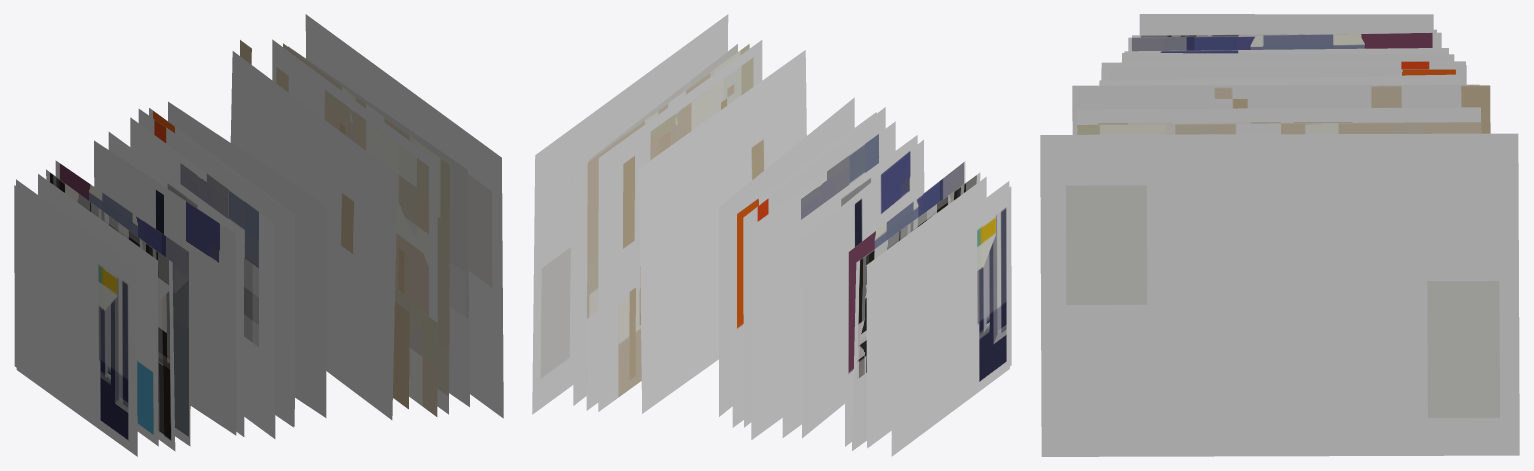
The model's file is jacquier.dae.
3 renders of one model, left to right at view 1: azimuth 30°, elevation 25°; view 2: azimuth 150°, elevation 25°; view 3: azimuth 270°, elevation 25°, orthographic. The views are drawn at different scales.
Parts seen in each view (by area): view 1: Plane_005, Plane_016, Plane_001, Plane_003, Plane_011, Plane_009, Plane_006, Plane_008, Plane_014, Plane_012, Plane, Plane_013 (+5 smaller); view 2: Plane_005, Plane_016, Plane_001, Plane_003, Plane_011, Plane_009, Plane_014, Plane_006, Plane_010, Plane, Plane_008, Plane_012 (+5 smaller); view 3: Plane_001, Plane_005, Plane_003, Plane_012, Plane_002, Plane_015, Plane_008, Plane_006, Plane_010, Plane_007, Plane_004, Plane_014 (+1 smaller).
Boxes of the visible parts, x1,y1,x2,y2 form: Plane_005: (230,51,397,419); Plane_016: (14,185,133,451); Plane_001: (305,14,503,418); Plane_003: (272,39,437,416); Plane_011: (94,140,236,435); Plane_009: (130,117,275,438); Plane_006: (168,101,326,417); Plane_008: (138,109,293,427); Plane_014: (38,174,158,446); Plane_012: (55,160,190,446); Plane: (288,46,469,406); Plane_013: (46,169,175,451); Plane_005: (639,50,806,413); Plane_016: (894,186,1011,451); Plane_001: (532,14,728,414); Plane_003: (598,40,762,411); Plane_011: (801,139,924,438); Plane_009: (751,121,895,439); Plane_014: (866,176,986,448); Plane_006: (719,97,854,416); Plane_010: (782,135,917,437); Plane: (572,44,737,405); Plane_008: (743,107,885,427); Plane_012: (845,161,965,446); Plane_001: (1040,133,1519,456); Plane_005: (1072,84,1479,134); Plane_003: (1076,107,1480,134); Plane_012: (1128,32,1441,51); Plane_002: (1077,122,1481,134); Plane_015: (1139,14,1433,35); Plane_008: (1101,61,1465,80); Plane_006: (1099,74,1460,85); Plane_010: (1121,53,1454,62); Plane_007: (1110,69,1465,84); Plane_004: (1214,85,1490,133); Plane_014: (1142,27,1436,35).
Size of the model in its own units: 10.29 by 10.59 by 7.89.
17 materials, 17 textured.
